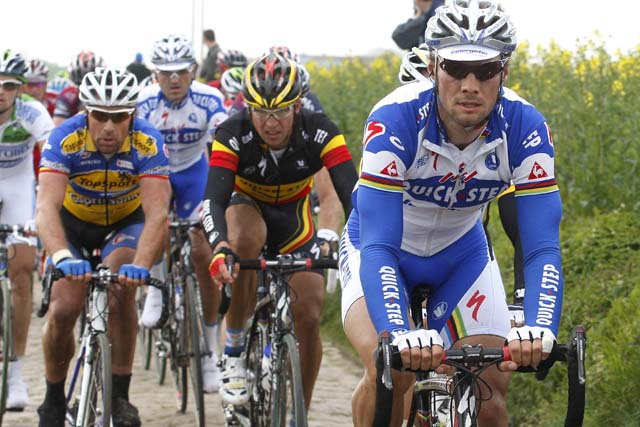with_helmet: (421, 4, 517, 60), (239, 55, 305, 104), (79, 69, 138, 111)
